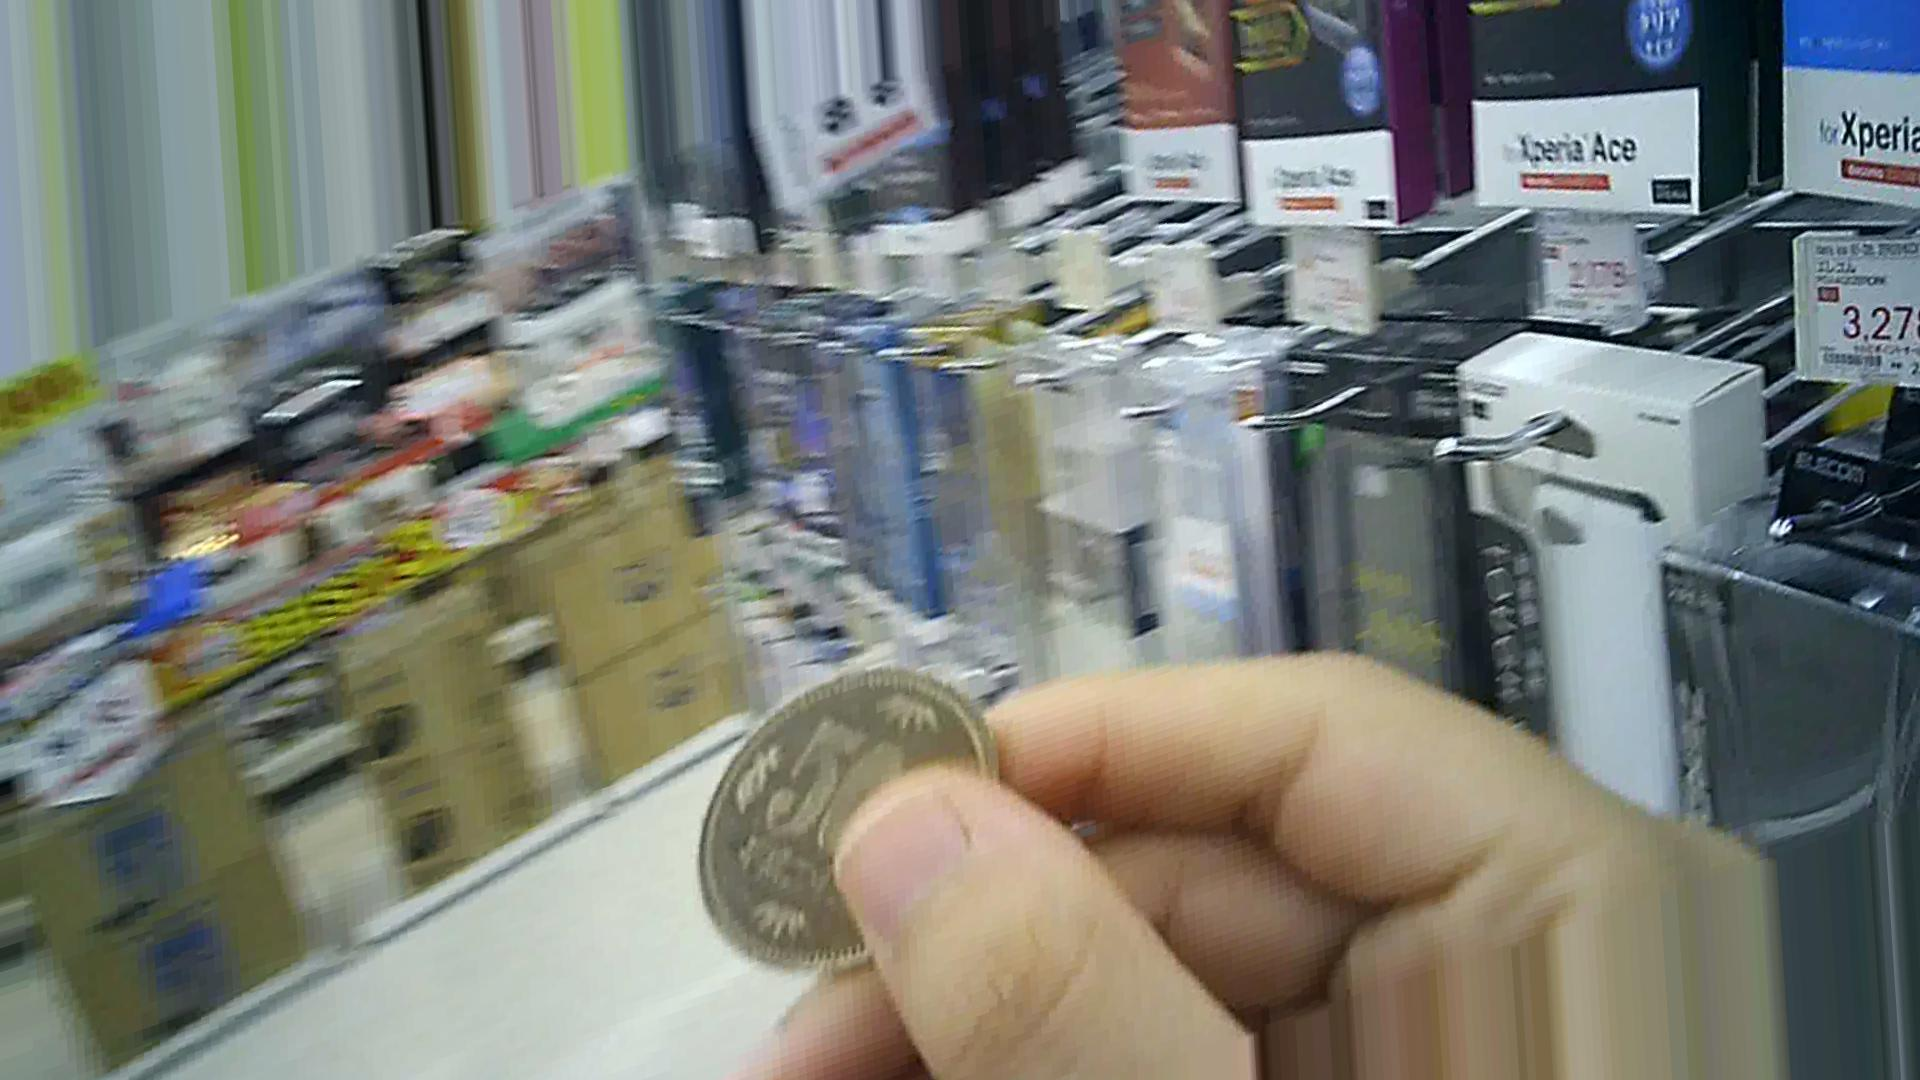500 Yen: (636, 659, 984, 951)
